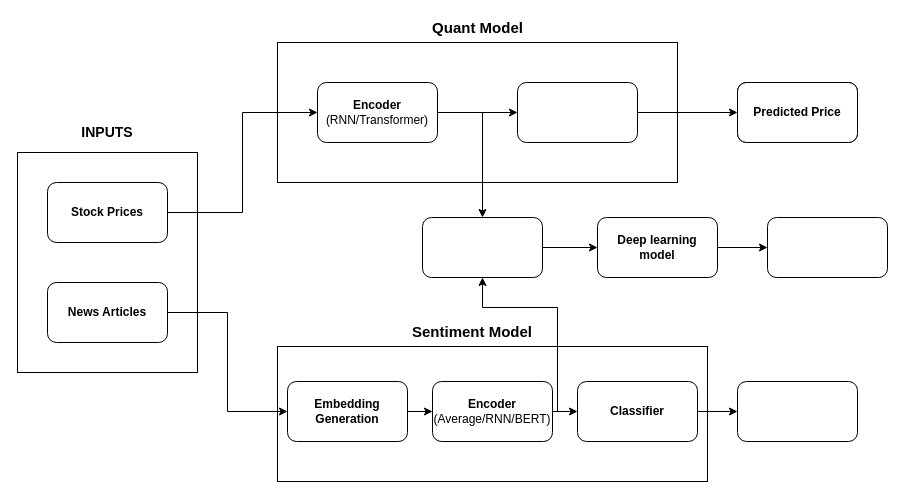
Image size: 905x499. Some labels were removed from this diagram. Here are the shapes that lost their labels. From the top down, the centre of each, then its label:
At (577,112): "Regression Model".
At (482,247): "Combine encodings".
At (827,247): "Predicted Slope of stock price".
At (797,411): "Sentiment Score".
